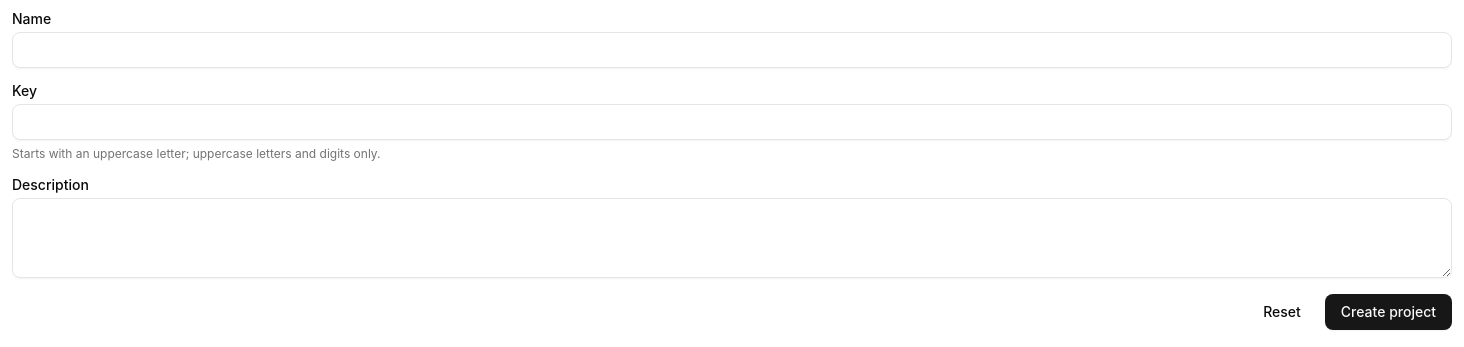
ProjectForm create mode › maps a 409 conflict onto the key field and the duplicate-key toast
Type "Website" into the field labelled "Name" at (732, 50), box [12,32,1452,68]
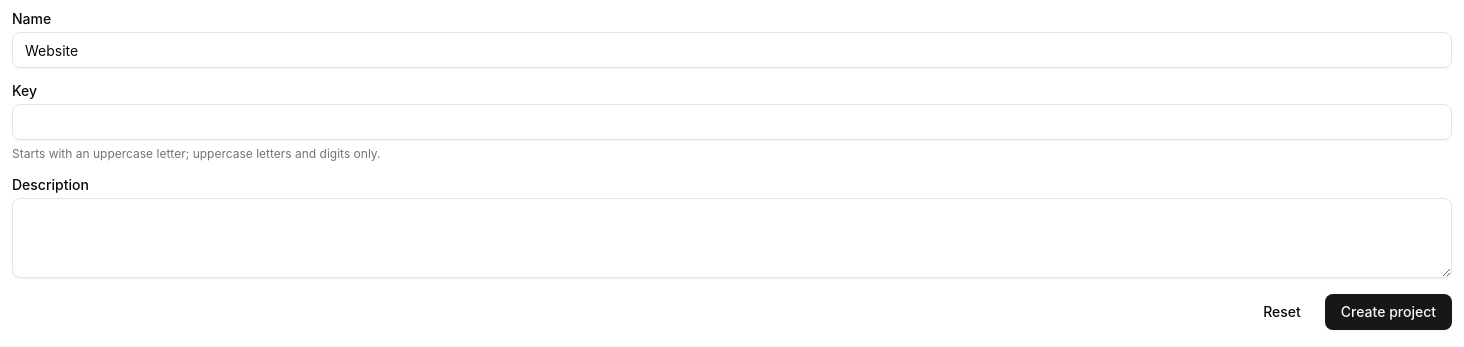
Type "WEB" into the field labelled "Key" at (732, 122), box [12,104,1452,140]
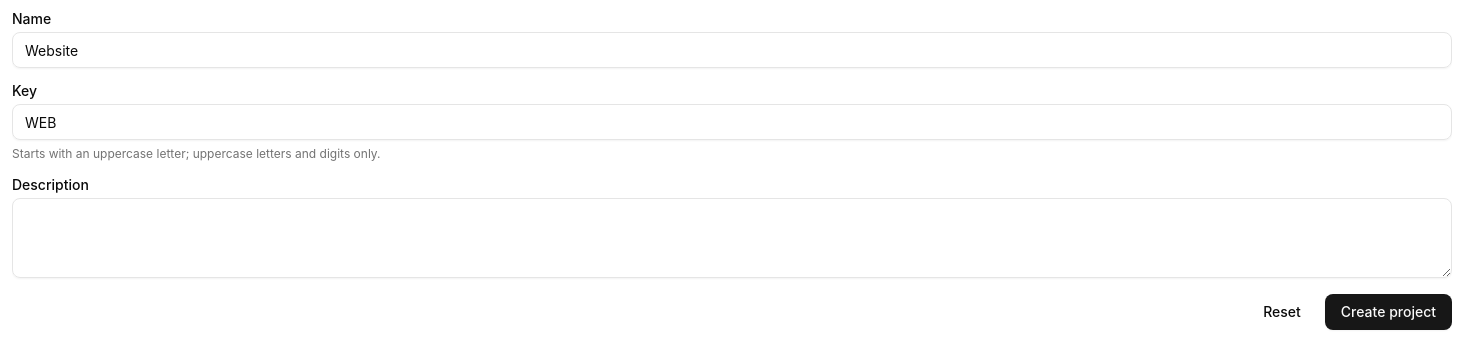
Type "Marketing site" into the text box labelled "Description" at (732, 238), box [12,198,1452,278]
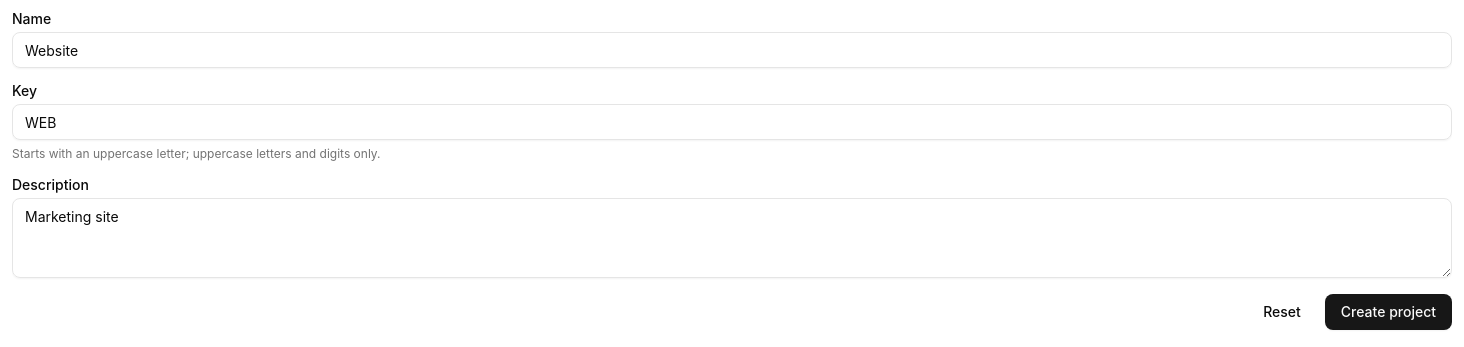
Click the button "Create project" at (1388, 312), box [1325,294,1452,330]
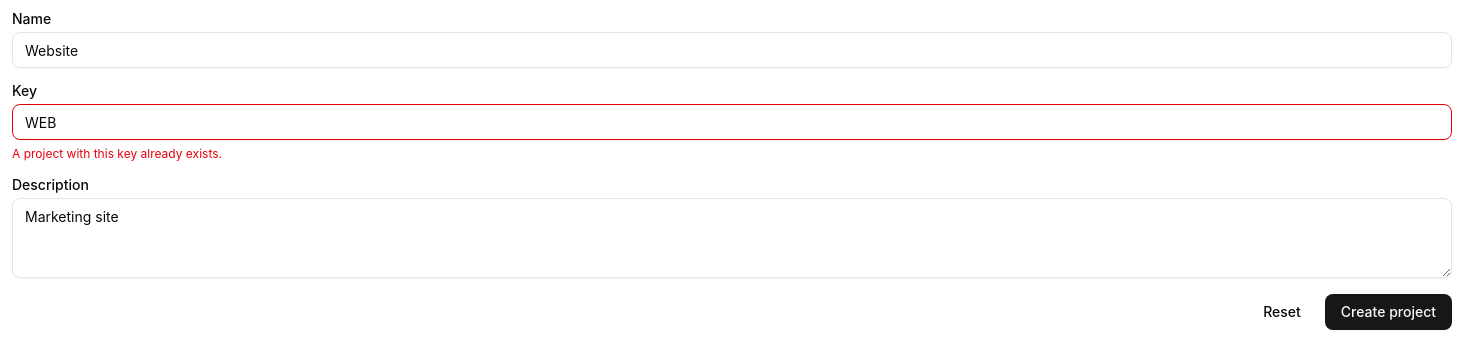
Result: the text "A project with this key already exists." is shown at [12,146,222,161]
